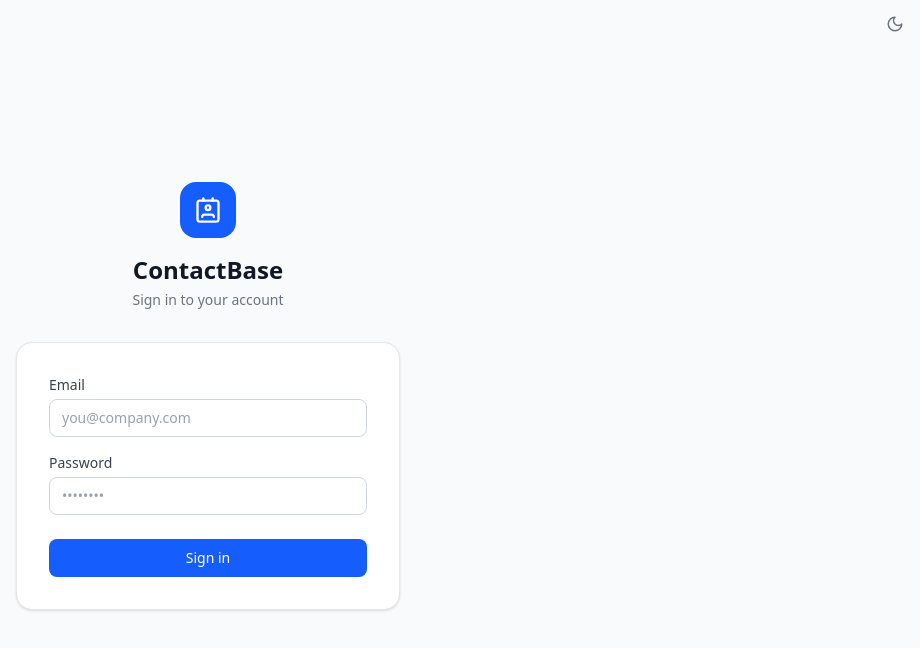
Test: LoginPage › shows validation error when email is empty
Step 1. Click the button "Sign in" → (208, 558), box [49,539,367,577]
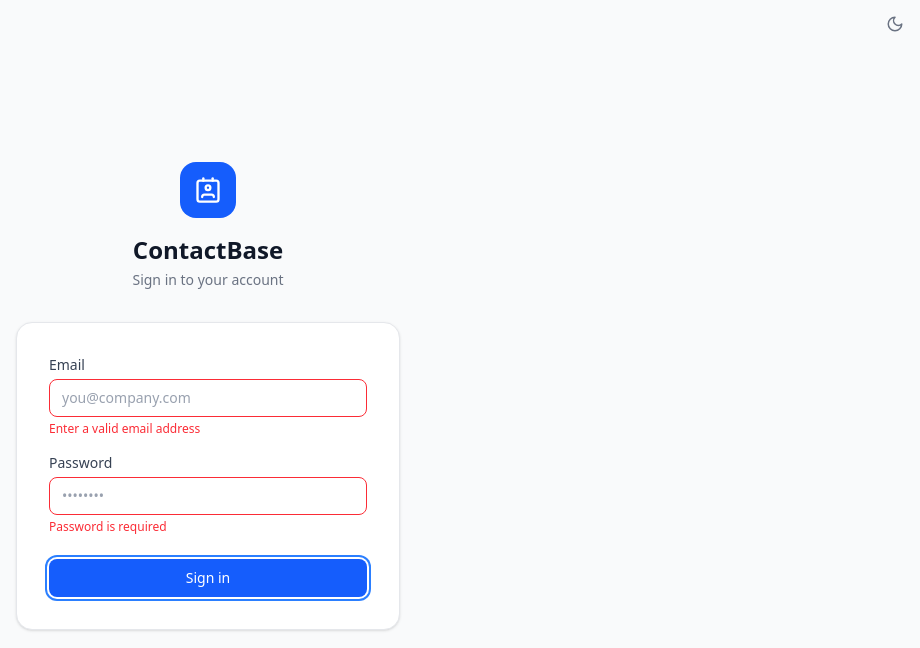
expect the text "Enter a valid email address" is shown: met, box [49,420,200,437]
